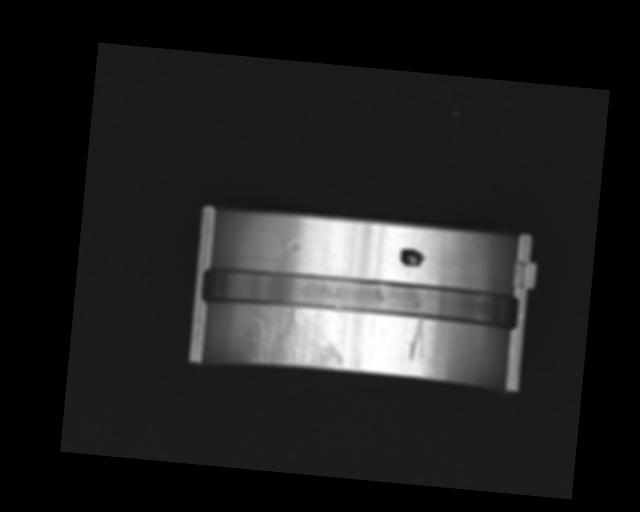blot: (398, 248, 426, 268)
bruise: (286, 238, 301, 258)
gap: (200, 265, 520, 330)
nick: (407, 315, 427, 362)
scratch: (242, 300, 348, 373)
